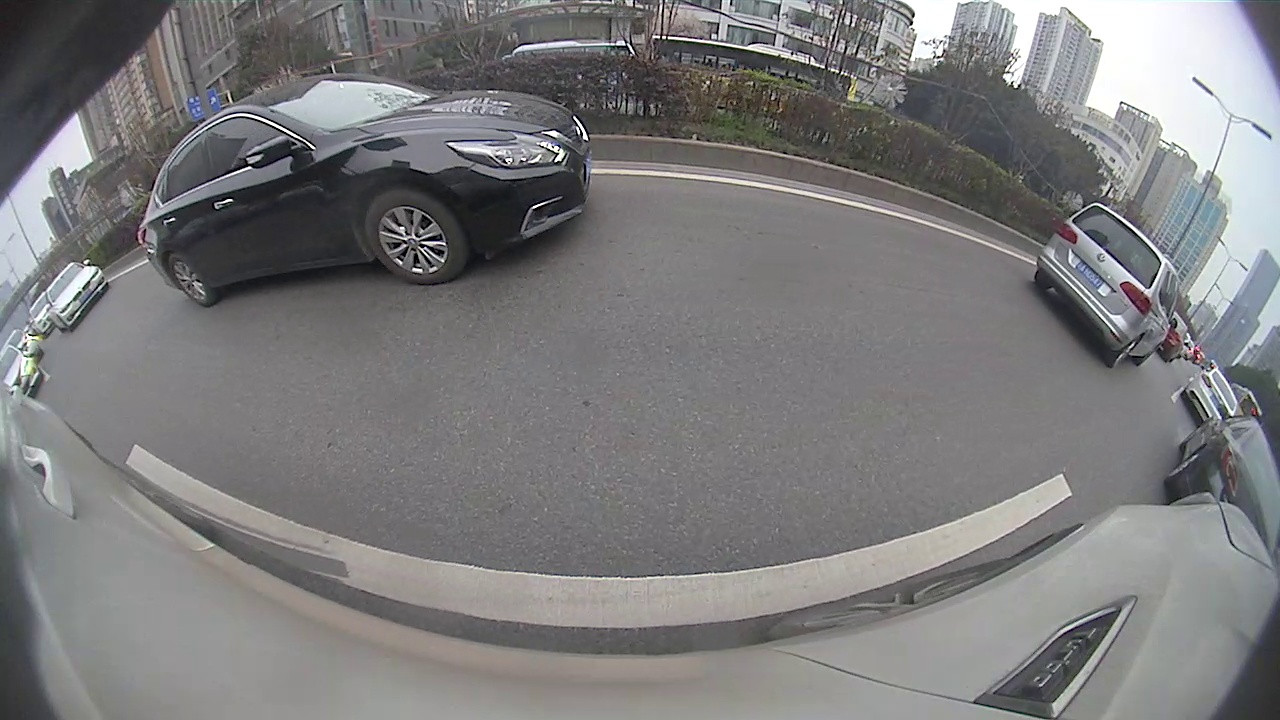car: (137, 73, 594, 308), (1032, 202, 1180, 369), (1163, 399, 1279, 553), (42, 256, 111, 336), (1178, 363, 1240, 423)
front: (364, 197, 463, 286)
rear: (168, 253, 214, 307), (1110, 335, 1142, 369)
